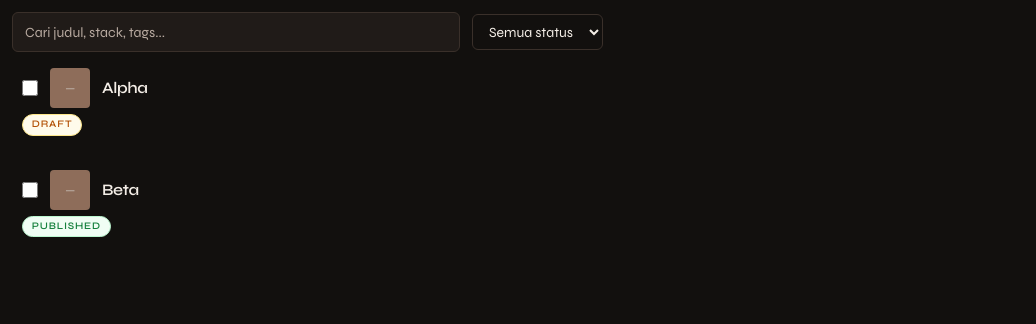
Test: FilterableList bulk visibility › shows BulkActionBar only when items are selected
The image size is (1036, 324).
Expected: the text "dipilih" is not shown
Click the checkbox named "Pilih Alpha": (30, 88) top-left (22, 80), bottom-right (38, 96)
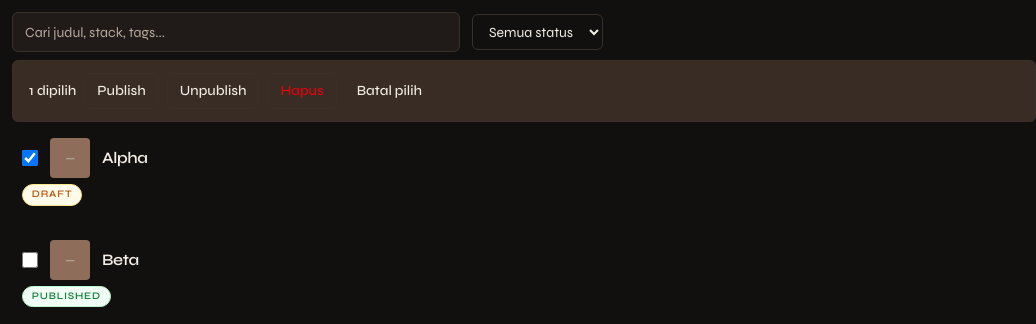
Expected: the text "1 dipilih" is shown, top-left (29, 81), bottom-right (76, 101)
